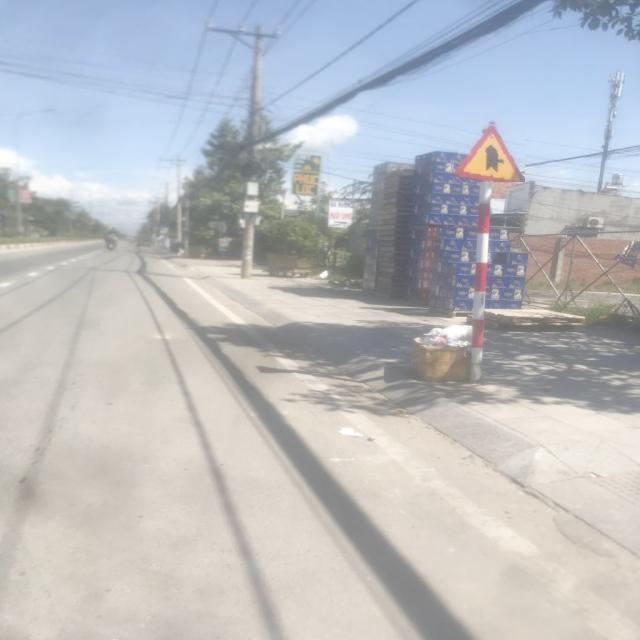giao_nhau_voi_duong_khong_uu_tien: (450, 120, 525, 182)
